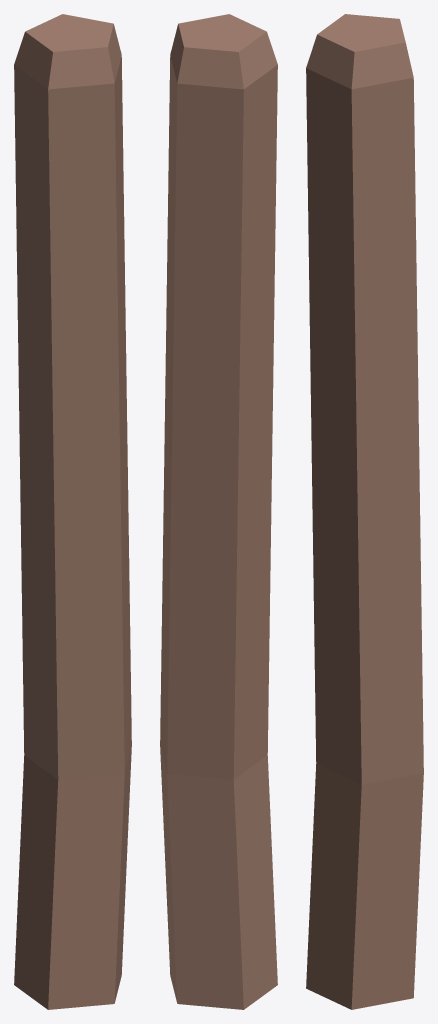
File: Stick.fbx
3 renders of one model, left to right at view 1: azimuth 30°, elevation 25°; view 2: azimuth 150°, elevation 25°; view 3: azimuth 330°, elevation 25°, orthographic.
Parts seen in each view (by area): view 1: SM_Prop_Fence_Stick_01; view 2: SM_Prop_Fence_Stick_01; view 3: SM_Prop_Fence_Stick_01.
Boxes of the visible parts, <box> form: SM_Prop_Fence_Stick_01: <box>14,14,131,1009</box>; SM_Prop_Fence_Stick_01: <box>160,14,277,1009</box>; SM_Prop_Fence_Stick_01: <box>306,14,423,1009</box>.
Bounding box in the file's own units: 13.04 × 118 × 12.33.
